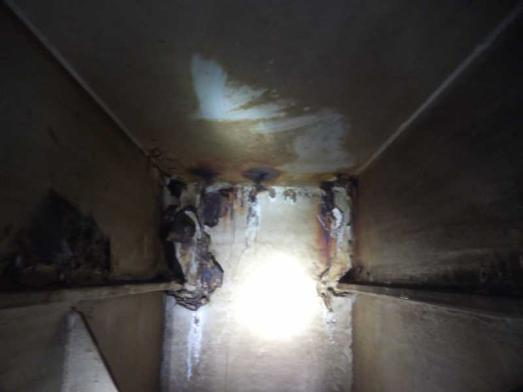corrosion: (0, 191, 115, 301), (139, 215, 237, 305), (312, 168, 346, 305), (236, 178, 302, 206), (227, 153, 277, 187), (178, 184, 223, 221), (179, 152, 208, 178)
